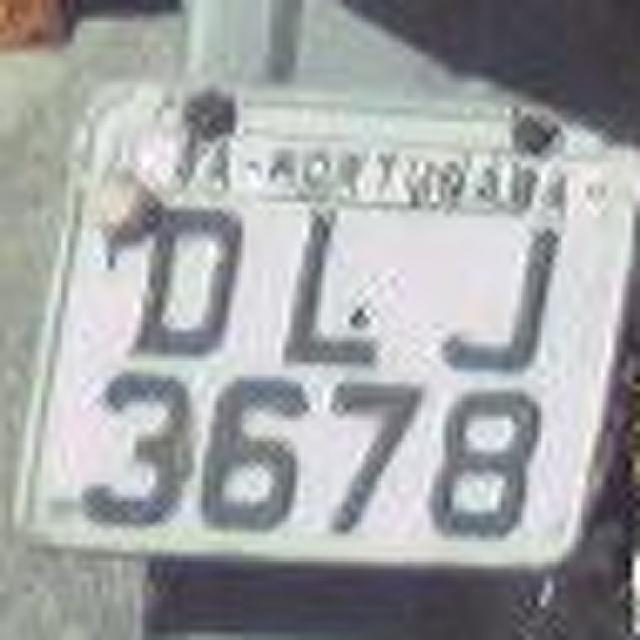3: (44, 352, 231, 560)
6: (172, 349, 352, 556)
7: (296, 355, 452, 540)
8: (416, 344, 572, 556)
J: (420, 184, 575, 371), (260, 188, 400, 388)
